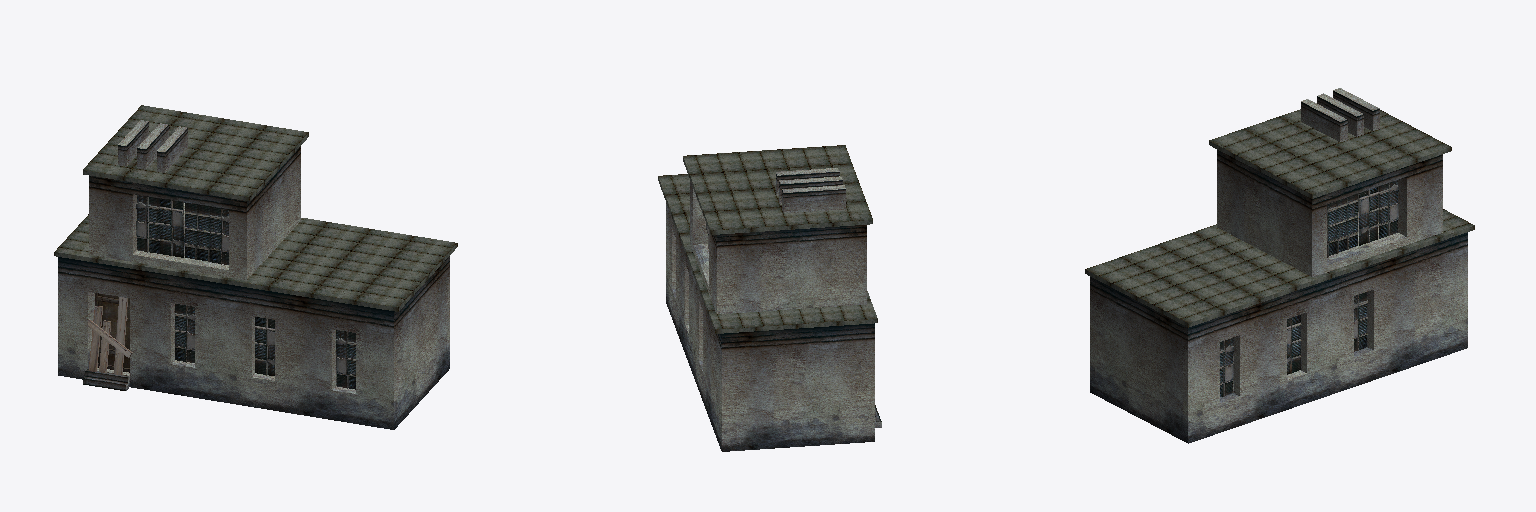
The picture shows the model from 3 angles: view 1: azimuth 30°, elevation 25°; view 2: azimuth 150°, elevation 25°; view 3: azimuth 270°, elevation 25°; orthographic projection.
Size of the model in its own units: 235 by 167 by 255.
5 materials, 5 textured.